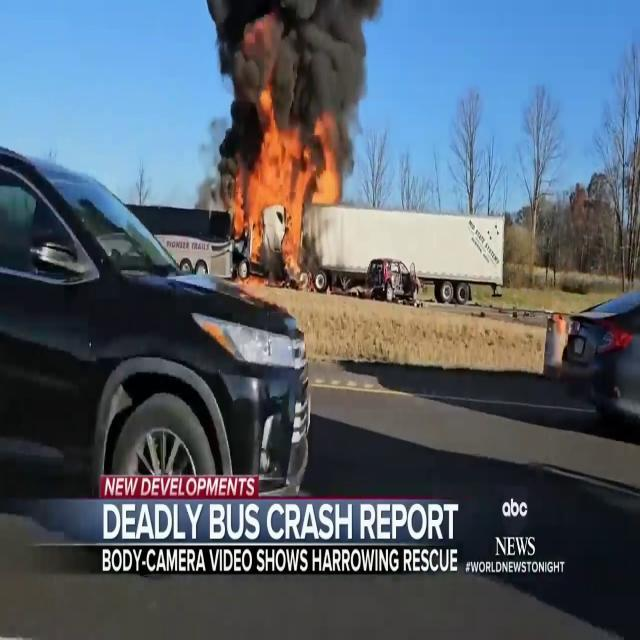Fire: (226, 110, 350, 285)
Smoke: (200, 0, 388, 158)
